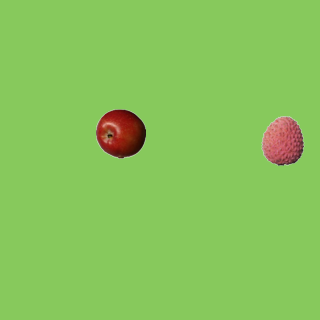Apple Braeburn: (95, 108, 145, 158)
Lychee: (257, 115, 307, 165)
